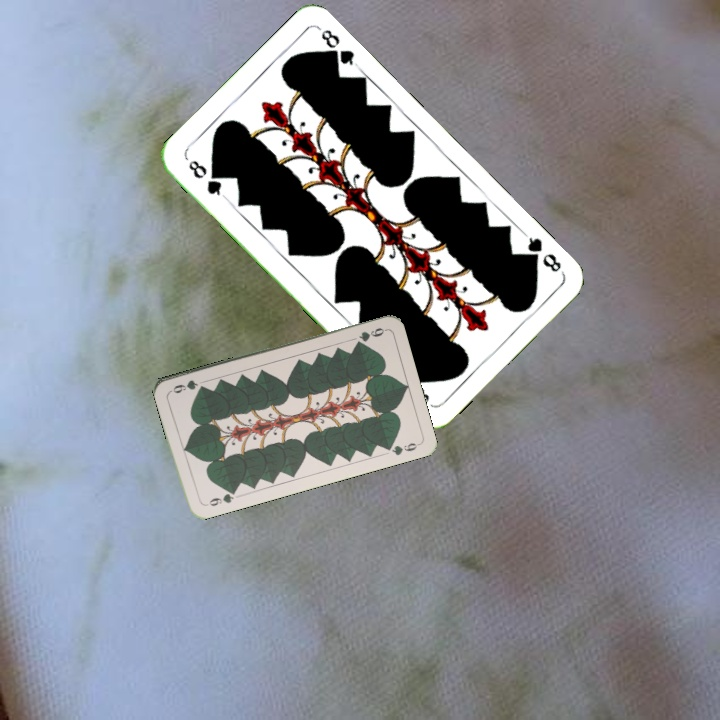G8: (519, 229, 566, 275), (184, 155, 225, 198)
G9: (200, 486, 238, 509), (355, 324, 388, 344)
